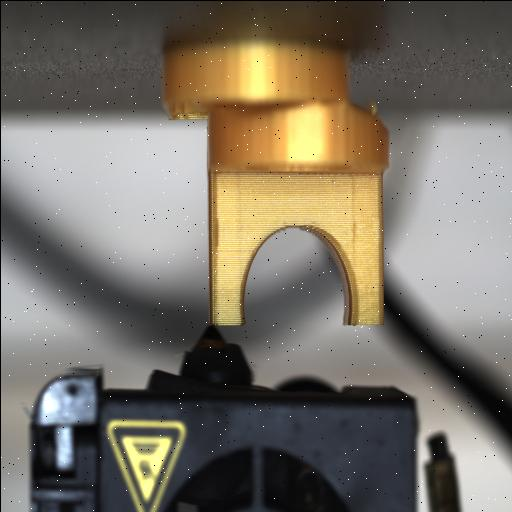layer_shift: (159, 90, 388, 136)
